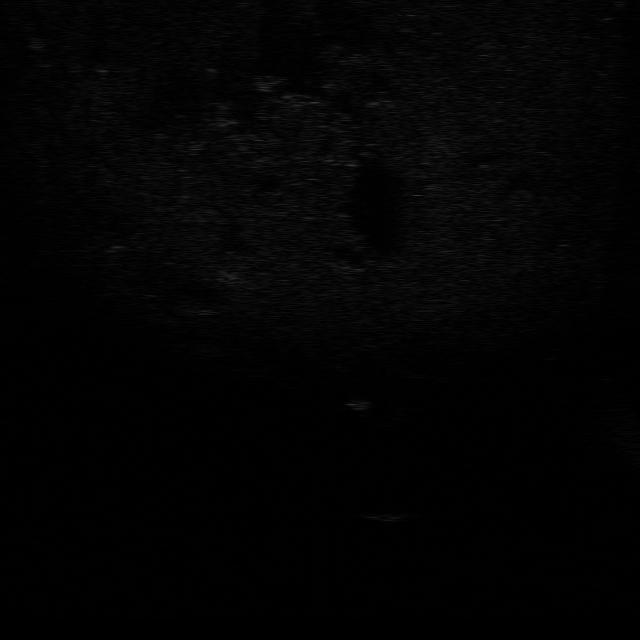cube: (356, 505, 416, 525)
square cage: (340, 392, 372, 417)
